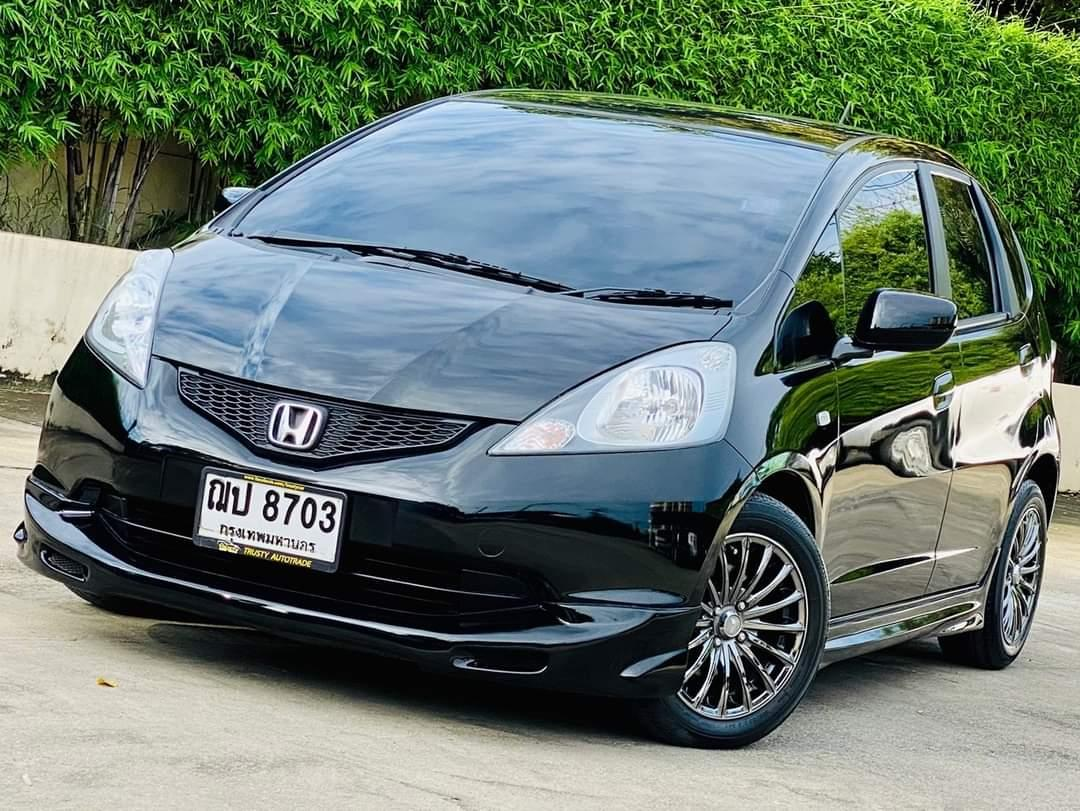license-plate: (189, 459, 351, 579)
